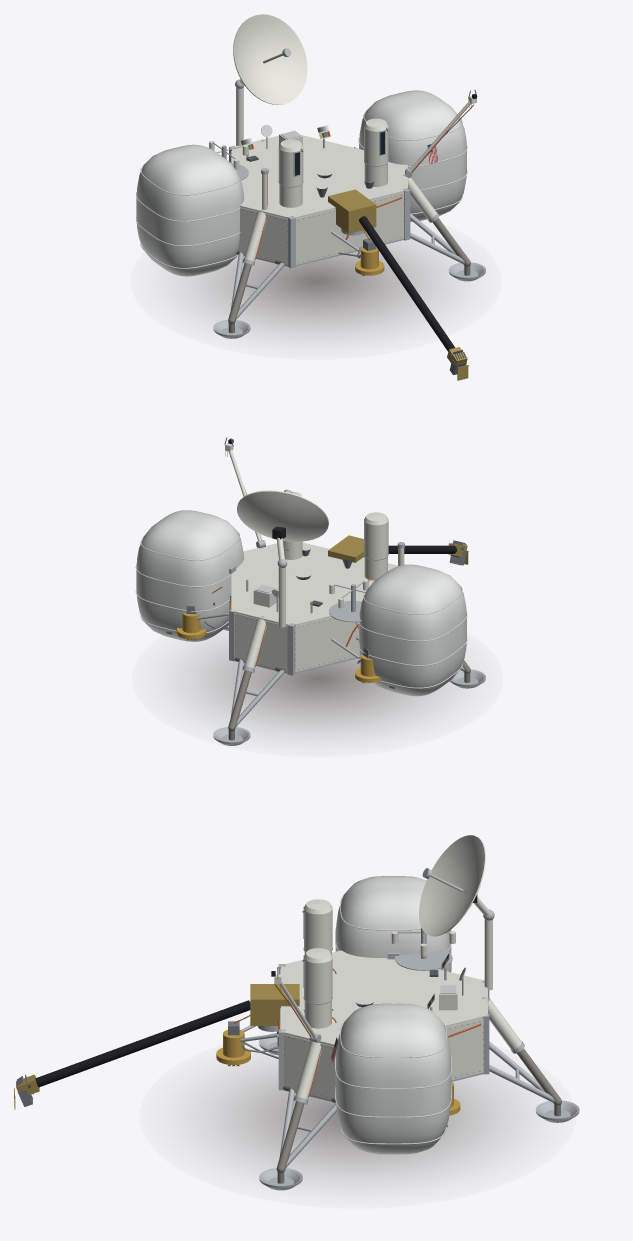
Rendered from viking2-lander.glb.
3 renders of one model, top to bottom at view 1: azimuth 30°, elevation 25°; view 2: azimuth 150°, elevation 25°; view 3: azimuth 270°, elevation 25°, orthographic. The views are drawn at different scales.
Parts seen in each view (by area): view 1: VL2_GROUND_SHADOW, VL2_WINDSCREEN_L, VL2_BODY_STRUCTURE, VL2_WINDSCREEN_R, VL2_HGA_DISH, VL2_BODY_PANEL_FRONT, VL2_BODY_PANEL_4, VL2_SAMPLER_HOUSING, VL2_SAMPLER_BOOM_TUBE, VL2_LEG_3_MAIN_STRUT, VL2_CAMERA_1_HEAD, VL2_LEG_2_MAIN_STRUT (+6 smaller); view 2: VL2_WINDSCREEN_L, VL2_GROUND_SHADOW, VL2_WINDSCREEN_R, VL2_BODY_STRUCTURE, VL2_HGA_DISH, VL2_BODY_PANEL_3, VL2_BODY_PANEL_2, VL2_CAMERA_1_HEAD, VL2_LEG_1_MAIN_STRUT, VL2_UHF_ANTENNA, VL2_HGA, VL2_TDE_1 (+6 smaller); view 3: VL2_WINDSCREEN_R, VL2_GROUND_SHADOW, VL2_BODY_STRUCTURE, VL2_WINDSCREEN_L, VL2_HGA_DISH, VL2_SAMPLER_BOOM_TUBE, VL2_BODY_PANEL_0, VL2_BODY_PANEL_1, VL2_SAMPLER_HOUSING, VL2_CAMERA_2_HEAD, VL2_LEG_2_MAIN_STRUT, VL2_CAMERA_1_HEAD (+9 smaller).
Part boxes in pixels (x1,y1,x2,y2): VL2_GROUND_SHADOW: (190,241,442,334); VL2_WINDSCREEN_L: (136,144,243,276); VL2_BODY_STRUCTURE: (229,135,410,268); VL2_WINDSCREEN_R: (358,90,467,222); VL2_HGA_DISH: (233,14,307,104); VL2_BODY_PANEL_FRONT: (296,192,404,264); VL2_BODY_PANEL_4: (238,207,288,264); VL2_SAMPLER_HOUSING: (328,189,376,235); VL2_SAMPLER_BOOM_TUBE: (359,216,455,351); VL2_LEG_3_MAIN_STRUT: (228,209,266,321); VL2_CAMERA_1_HEAD: (278,139,303,186); VL2_LEG_2_MAIN_STRUT: (403,174,470,265); VL2_WINDSCREEN_L: (358,564,467,696); VL2_GROUND_SHADOW: (191,641,441,731); VL2_WINDSCREEN_R: (135,510,243,641); VL2_BODY_STRUCTURE: (229,542,397,675); VL2_HGA_DISH: (237,489,328,541); VL2_BODY_PANEL_3: (295,617,360,671); VL2_BODY_PANEL_2: (234,613,287,671); VL2_CAMERA_1_HEAD: (364,512,388,559); VL2_LEG_1_MAIN_STRUT: (228,616,266,728); VL2_UHF_ANTENNA: (329,579,368,622); VL2_HGA: (272,526,287,627); VL2_TDE_1: (176,587,229,639); VL2_WINDSCREEN_R: (335,1003,451,1154); VL2_GROUND_SHADOW: (210,1064,505,1178); VL2_BODY_STRUCTURE: (278,950,489,1101); VL2_WINDSCREEN_L: (335,876,451,972); VL2_HGA_DISH: (419,835,485,936); VL2_SAMPLER_BOOM_TUBE: (35,1000,250,1087); VL2_BODY_PANEL_0: (284,1034,336,1099); VL2_BODY_PANEL_1: (446,1018,483,1080); VL2_SAMPLER_HOUSING: (250,984,299,1031); VL2_CAMERA_2_HEAD: (304,948,332,1003); VL2_LEG_2_MAIN_STRUT: (277,1041,321,1170); VL2_CAMERA_1_HEAD: (304,899,332,951).
Bounding box in the file's own units: 3.6 × 2.06 × 4.18.
28 materials, 3 textured.
